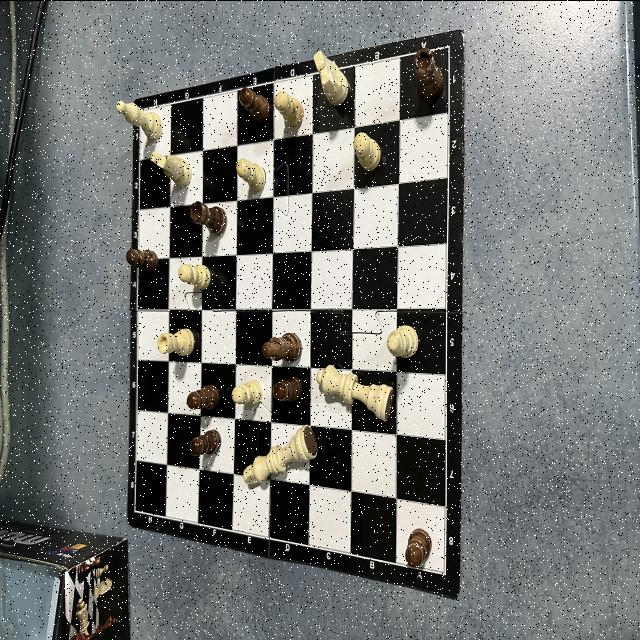Black-Bishop: (261, 330, 303, 360)
Black-Pawn: (238, 86, 270, 120), (405, 527, 432, 567), (186, 382, 220, 410), (190, 427, 222, 455), (126, 246, 158, 270), (273, 375, 302, 401)
Black-Rook: (414, 47, 444, 99), (190, 200, 228, 234)
White-Bishop: (116, 98, 163, 139), (386, 323, 418, 357)
White-King: (242, 424, 318, 485)
White-Knight: (313, 48, 349, 106), (150, 150, 192, 186)
White-Pawn: (353, 131, 381, 171), (274, 90, 304, 126), (236, 157, 266, 190), (231, 376, 263, 404), (178, 262, 212, 288)
White-Queen: (316, 363, 394, 421)
White-Rook: (156, 326, 195, 356)
